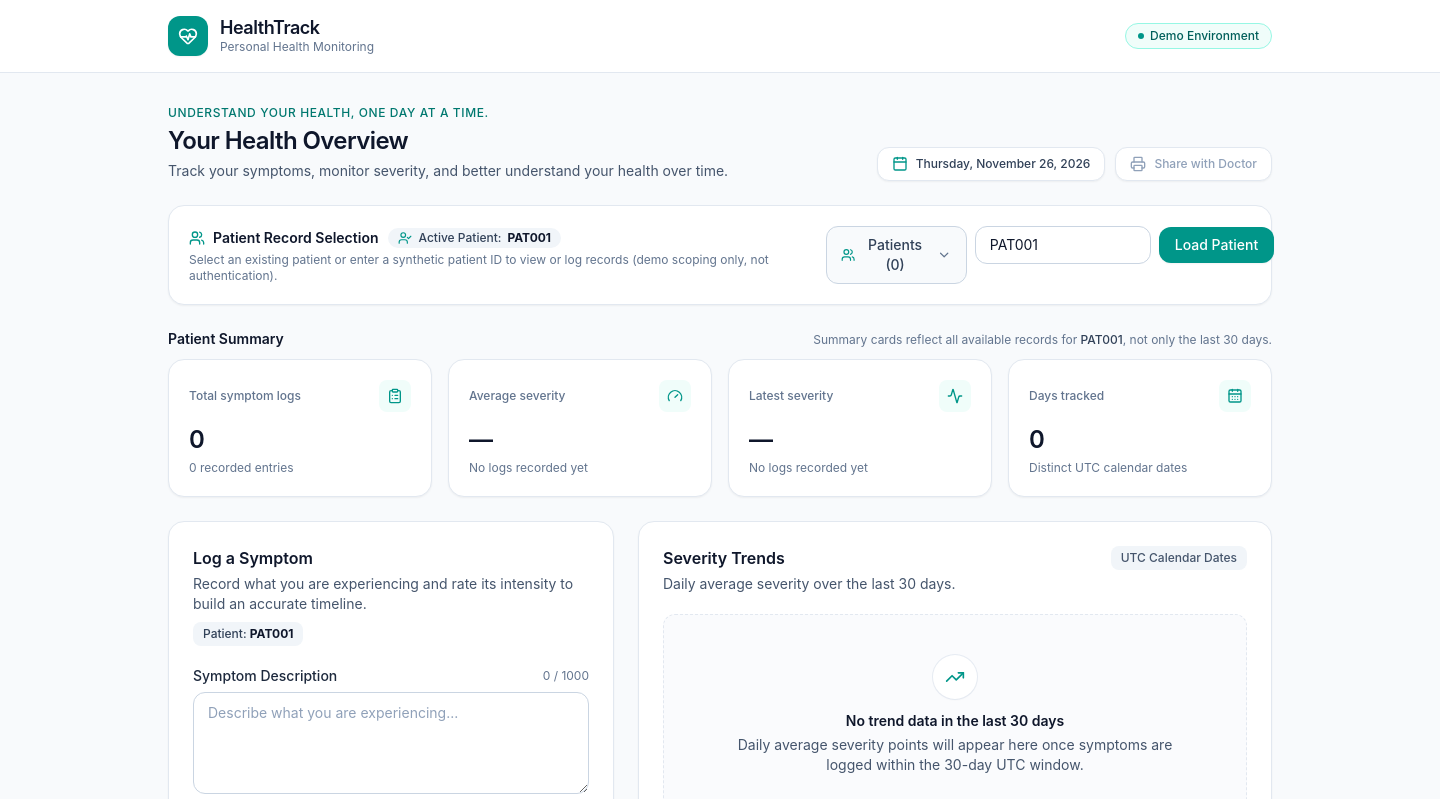
Test case: HealthTrack Dashboard › displays server 422 and 500 errors safely and preserves entered form text
Type "Server error test symptom" into the text box labelled "Symptom Description" at (391, 743), box [193,692,589,794]
(page scrolled)
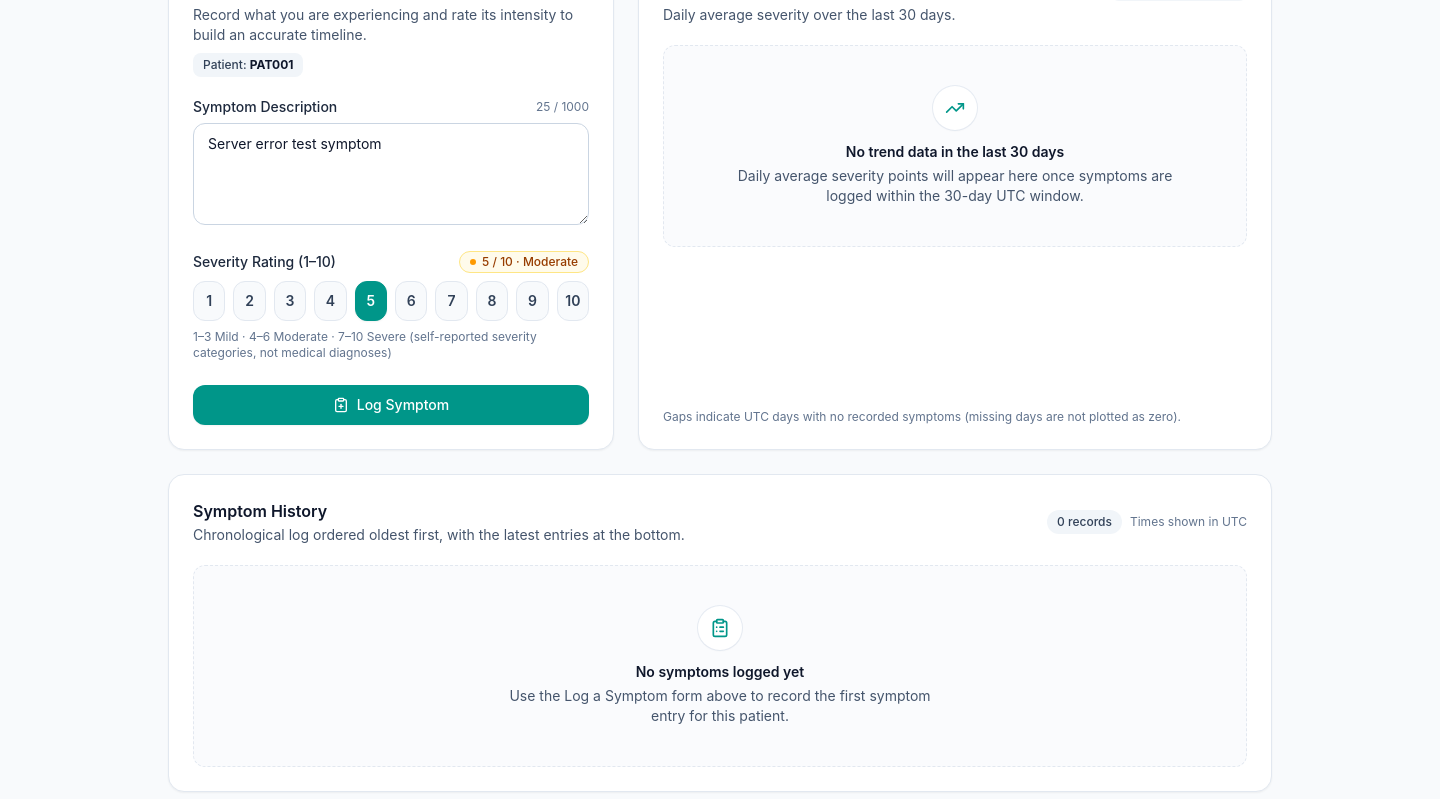
Click the button "Log Symptom" at (391, 405), box [193,385,589,425]
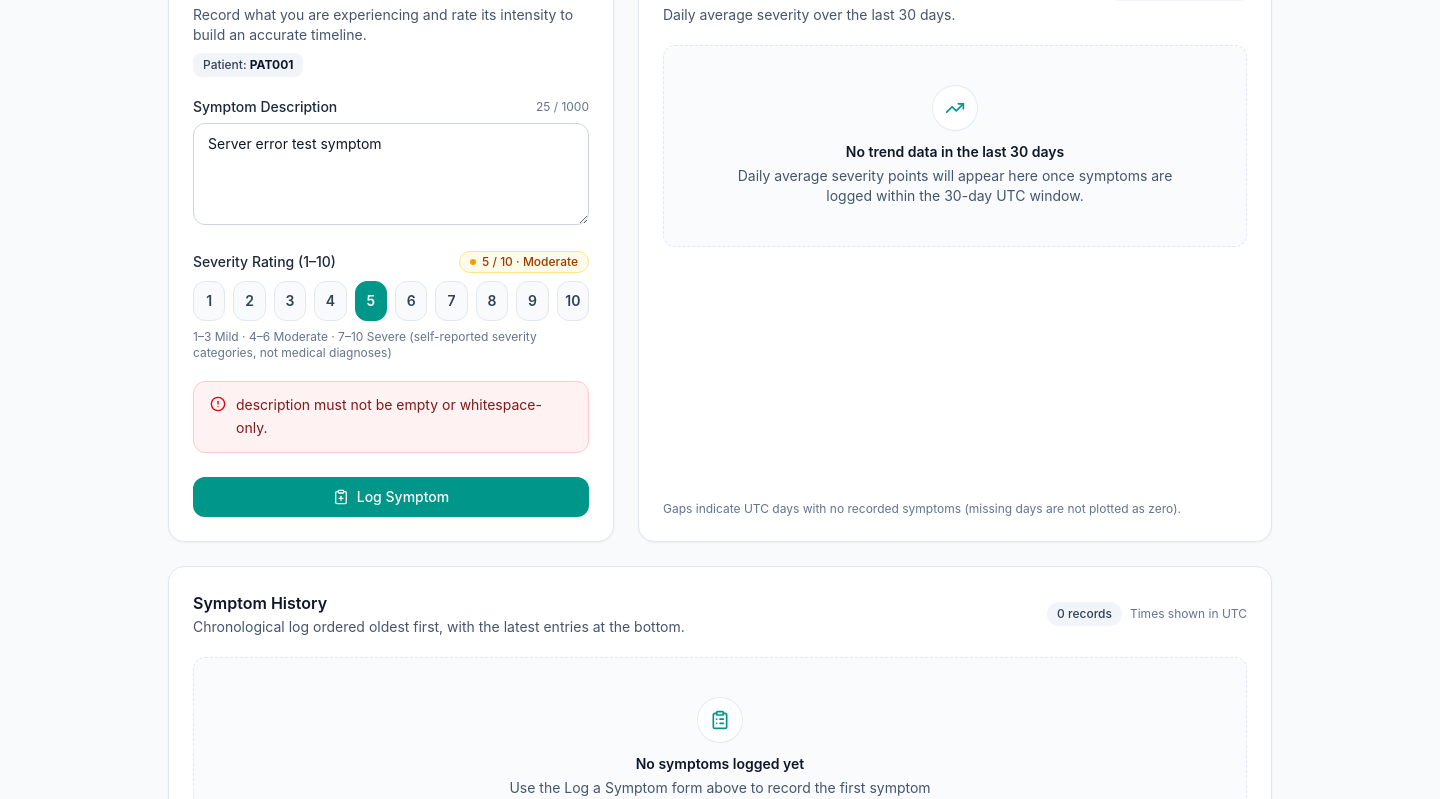
Result: the text "description must not be empty or whitespace-only." is shown at [236,394,572,440]
Click the button "Log Symptom" at (391, 496), box [193,476,589,516]
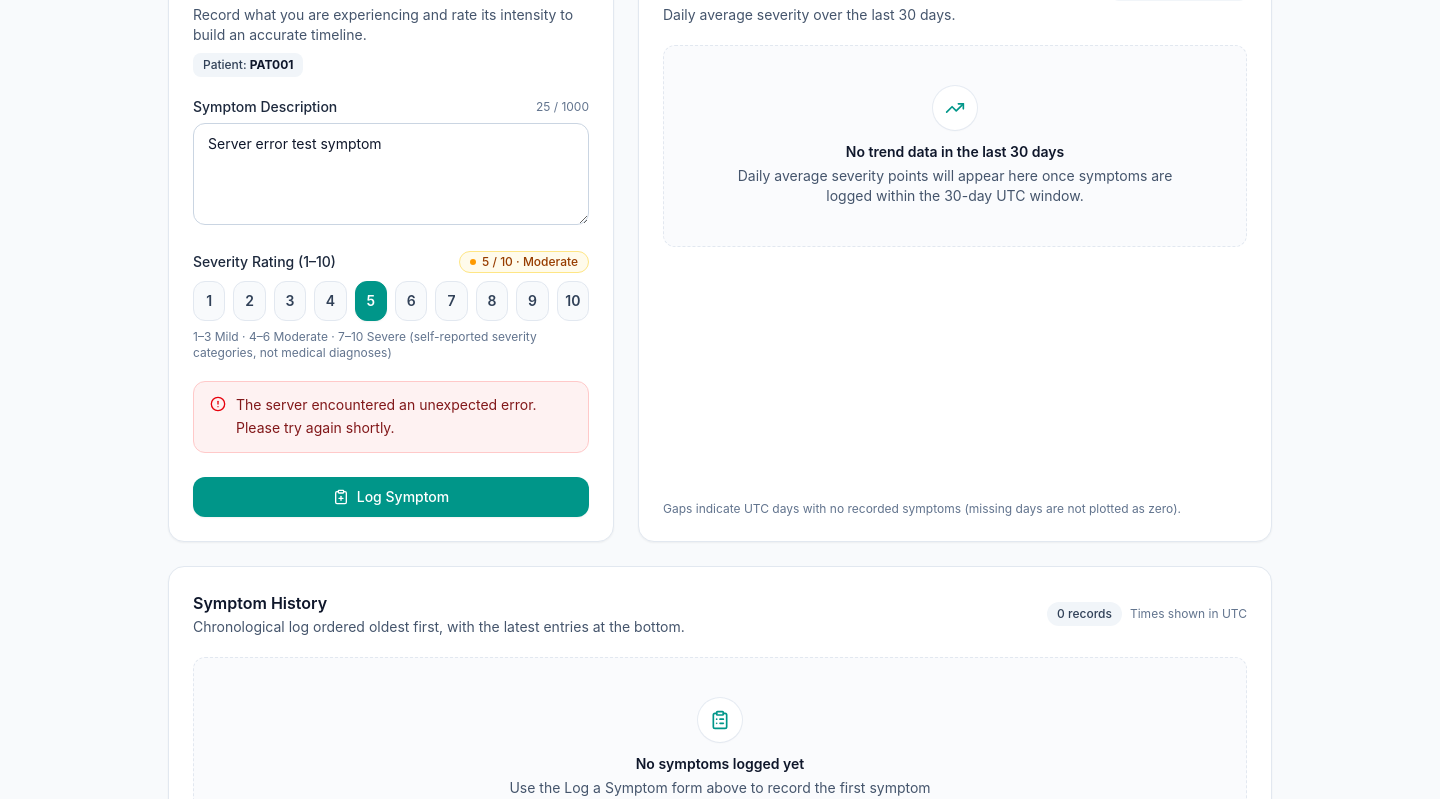
Result: the text "The server encountered an unexpected error. Please try again shortly." is shown at [236,394,572,440]
